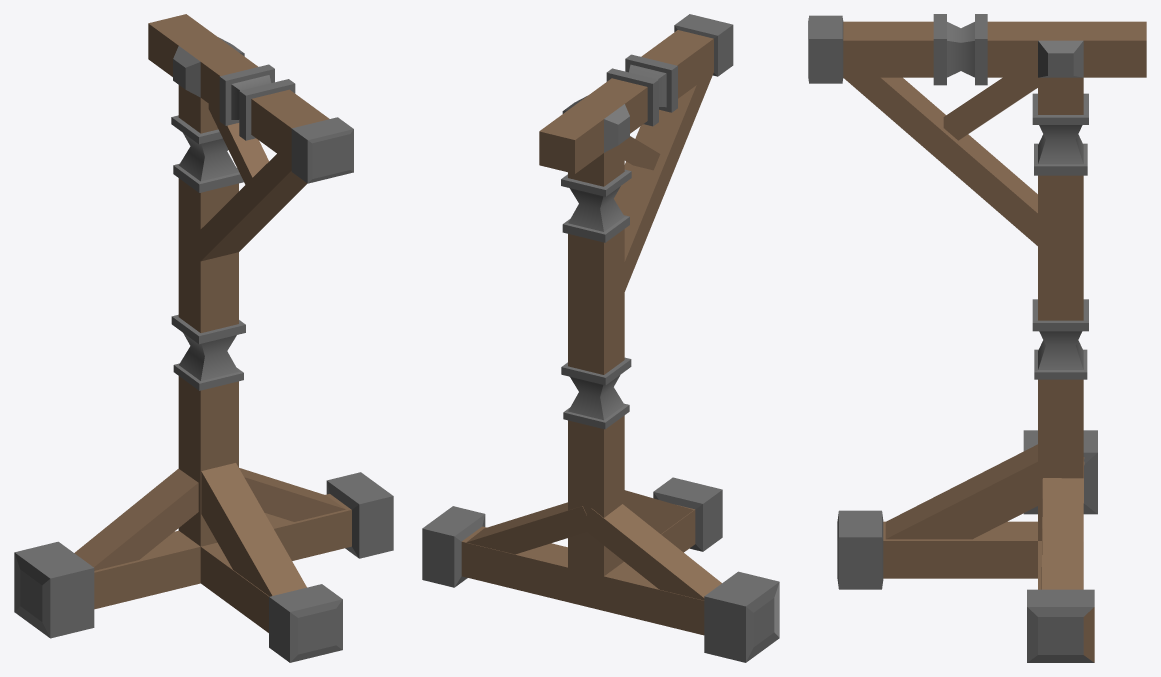
The model's file is Prop_Pillar_001_Wooden_002_Tall.fbx.
3 renders of one model, left to right at view 1: azimuth 30°, elevation 25°; view 2: azimuth 150°, elevation 25°; view 3: azimuth 270°, elevation 25°, orthographic. The views are drawn at different scales.
Parts seen in each view (by area): view 1: Prop_Pillar_001_Wooden_002_Tall; view 2: Prop_Pillar_001_Wooden_002_Tall; view 3: Prop_Pillar_001_Wooden_002_Tall.
Boxes of the visible parts, left/top/right/bottom form: Prop_Pillar_001_Wooden_002_Tall: left=14, top=14, right=393, bottom=662; Prop_Pillar_001_Wooden_002_Tall: left=422, top=14, right=779, bottom=662; Prop_Pillar_001_Wooden_002_Tall: left=808, top=14, right=1146, bottom=662.
Bounding box in the file's own units: 274 × 404 × 223.
